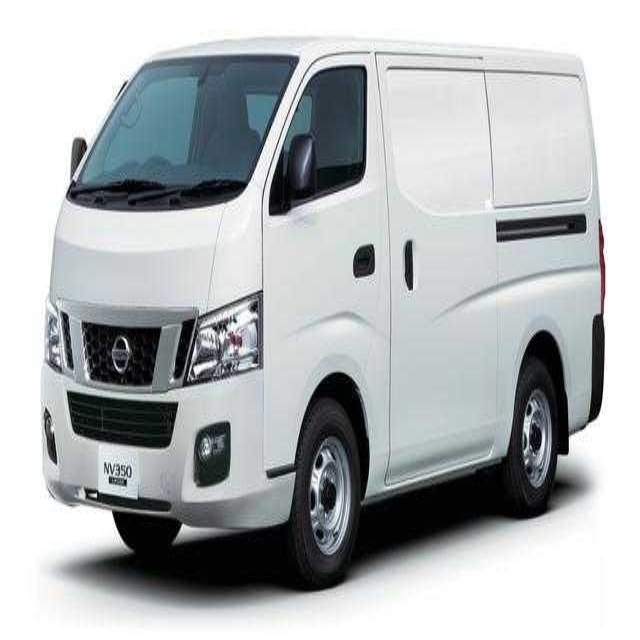Van: (38, 32, 606, 588)
